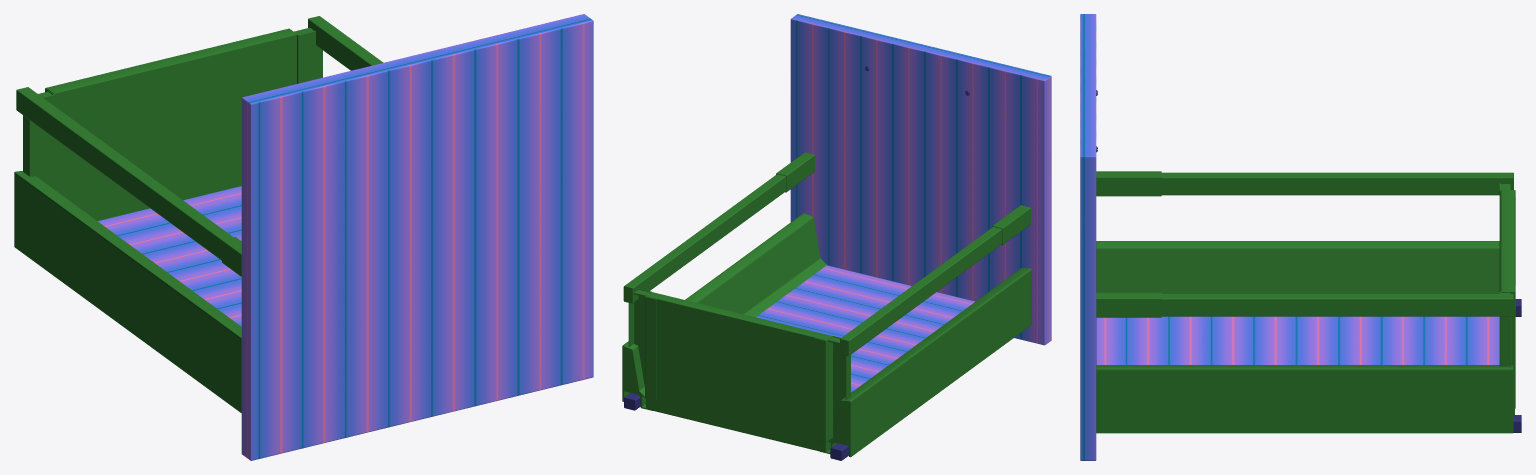
The model's file is SM_Kitchen_06_Base_Drawer_03.fbx.
3 views of the same model, side by side, from view 1: azimuth 30°, elevation 25°; view 2: azimuth 150°, elevation 25°; view 3: azimuth 270°, elevation 25° (orthographic). The views are drawn at different scales.
Visible parts, largest first — view 1: SM_Kitchen_06_Base_Drawer_03; view 2: SM_Kitchen_06_Base_Drawer_03; view 3: SM_Kitchen_06_Base_Drawer_03.
Boxes of the visible parts, x1,y1,x2,y2 form: SM_Kitchen_06_Base_Drawer_03: (14,14,593,460); SM_Kitchen_06_Base_Drawer_03: (622,14,1051,460); SM_Kitchen_06_Base_Drawer_03: (1080,14,1521,460).
Size of the model in its own units: 39.8 by 39.6 by 51.99.
Materials: 4 (2 with a texture image).
